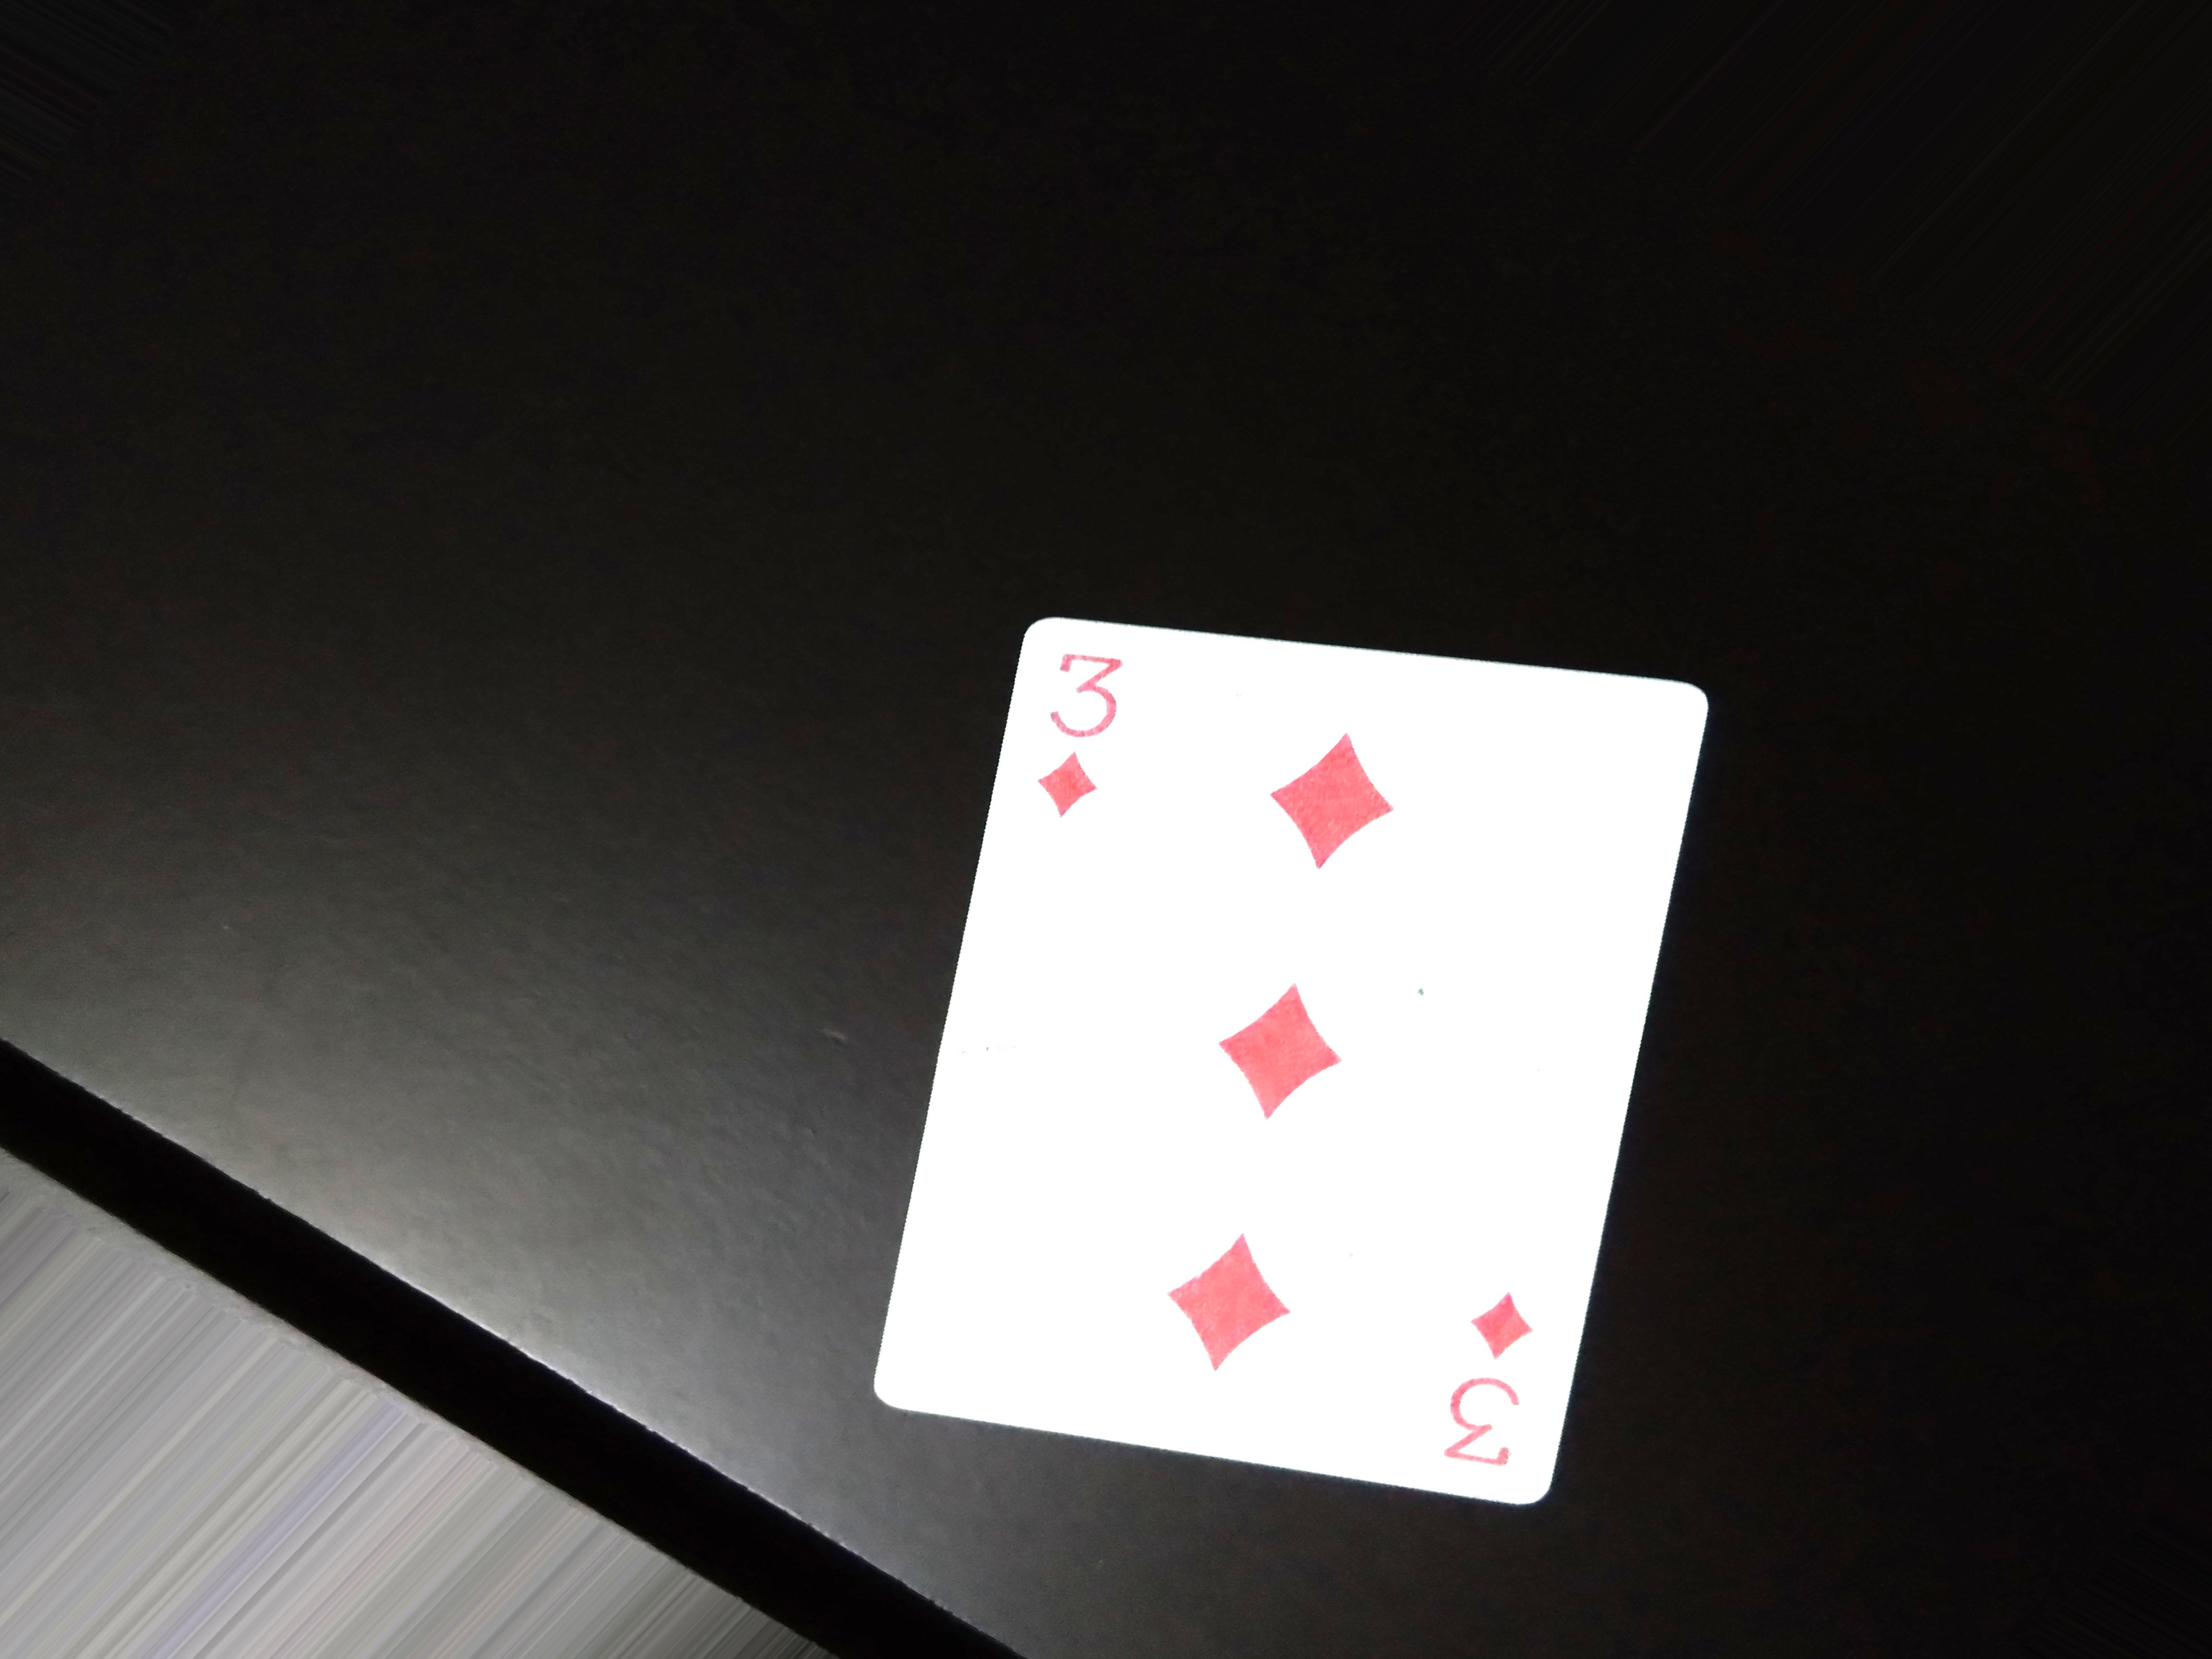3D: (1428, 1288, 1536, 1478)
